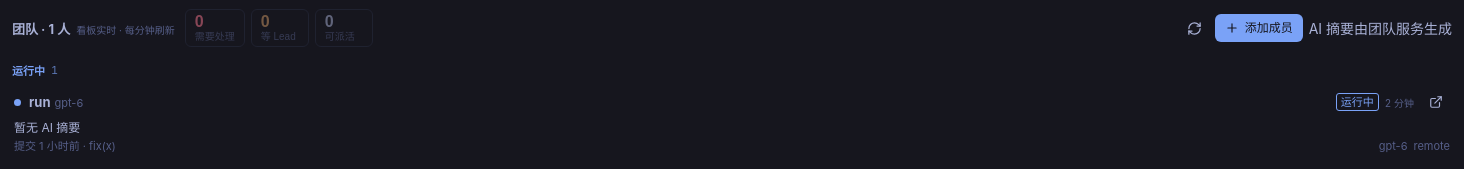
it: shows 没有符合的成员 when the filtered group is empty
The width and height of the screenshot is (1464, 169).
Click the button "0 等 Lead".
click(280, 28)  # box [251, 9, 309, 47]
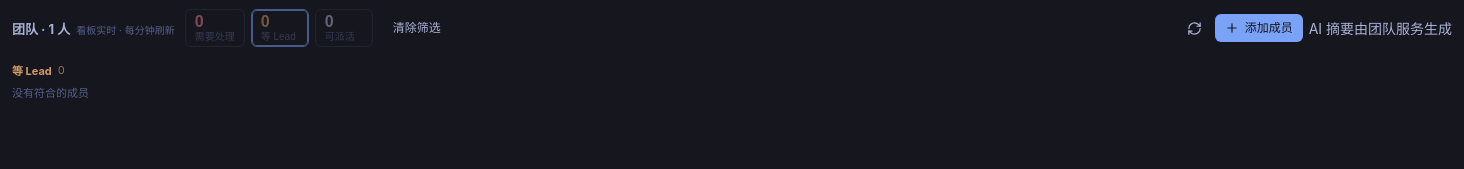
Expected: the element named "等 Lead成员" is shown, [12, 63, 89, 100]
Expected: the message reads "没有符合的成员", [12, 86, 89, 100]
